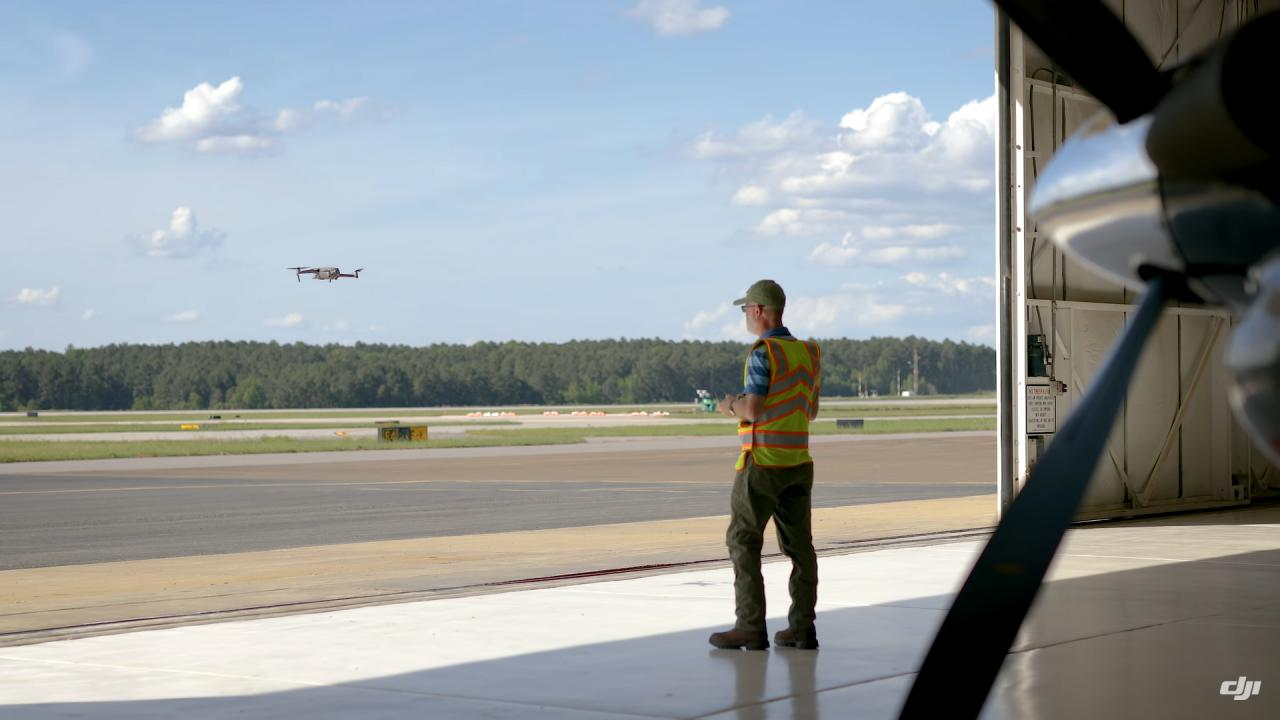Drone: (285, 252, 374, 294)
